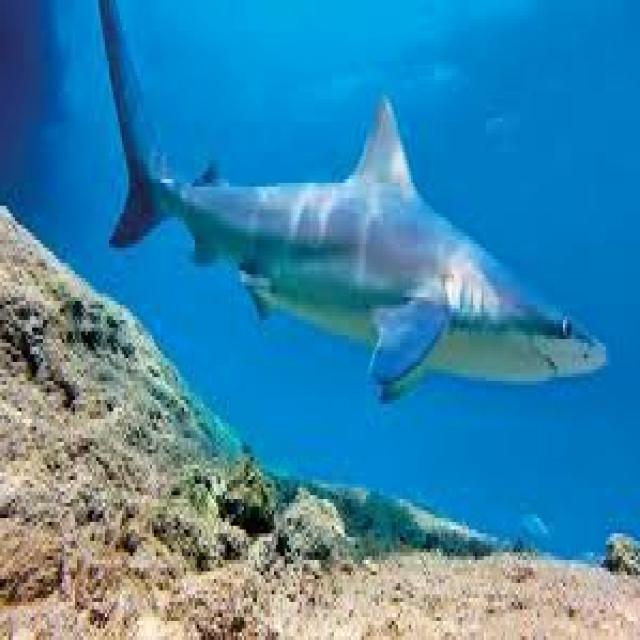shark: (103, 0, 606, 400)
